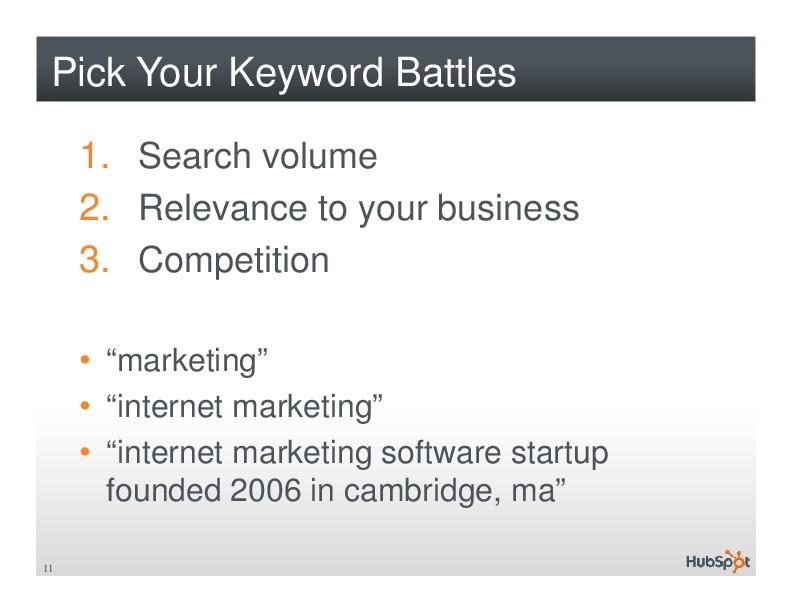paragraph: (55, 119, 682, 541)
title: (46, 42, 538, 99)
